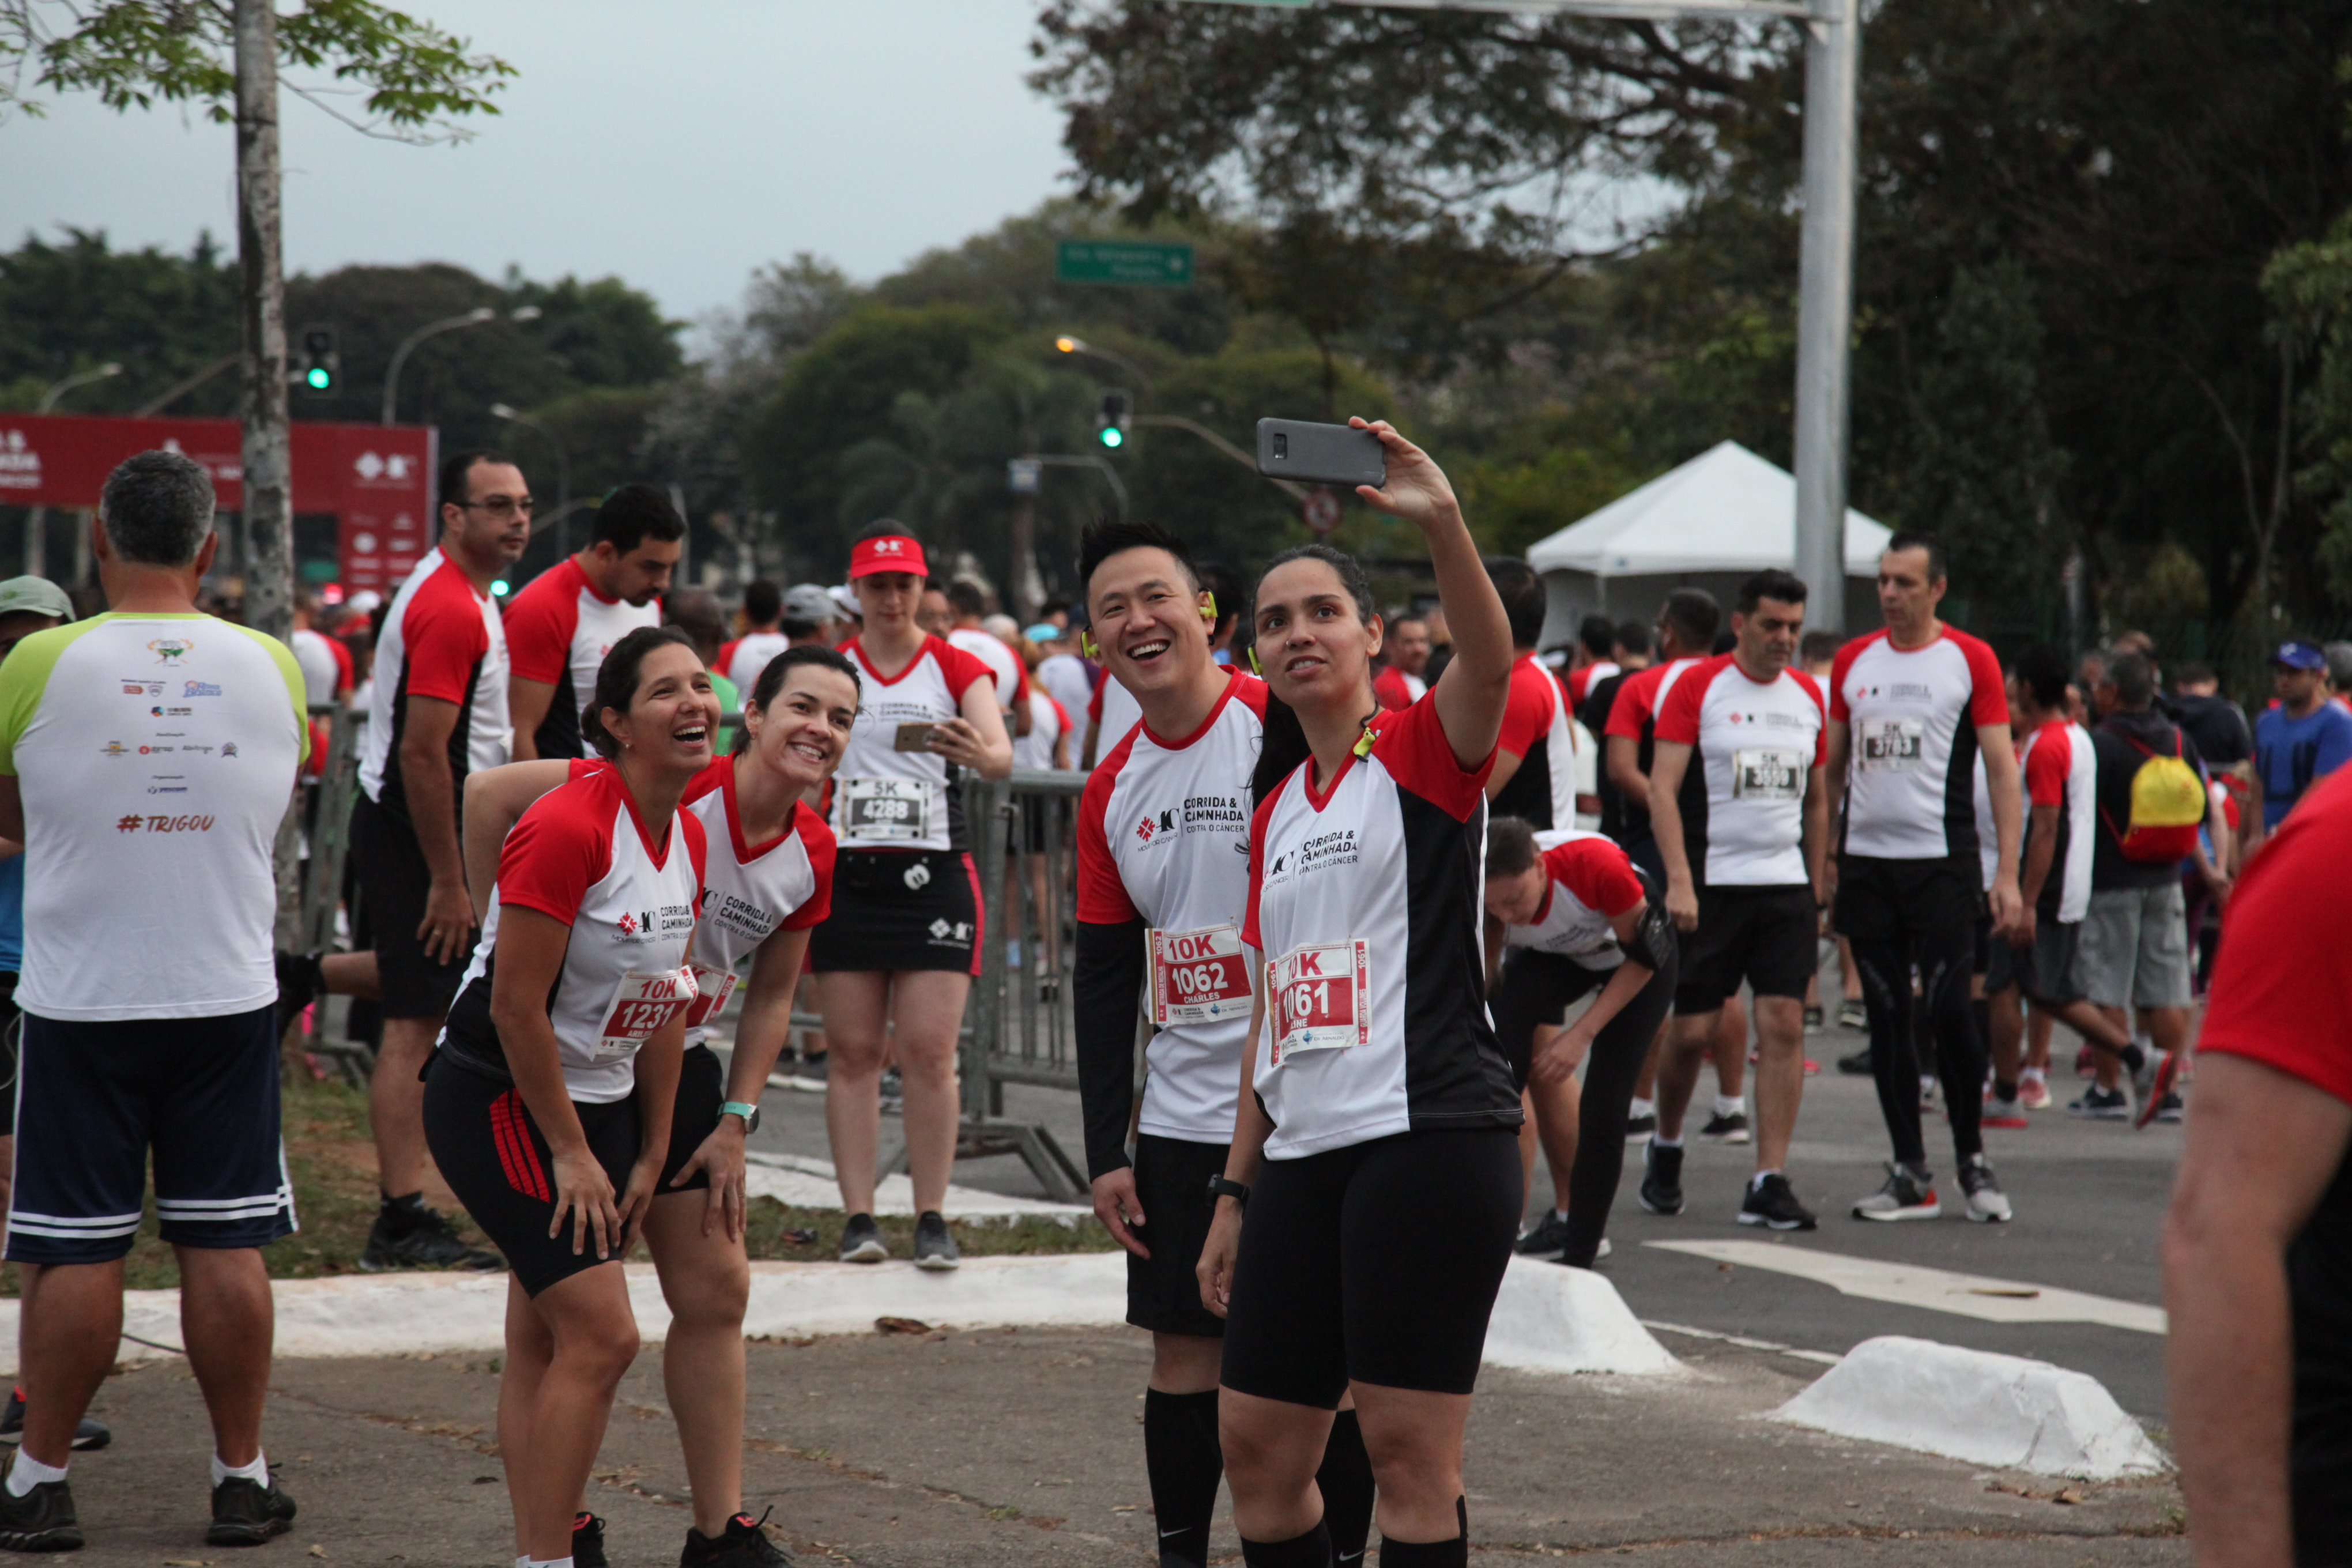bibtag: (1242, 927, 1381, 1081), (1132, 905, 1256, 1025), (604, 961, 695, 1095), (828, 768, 941, 854), (1722, 735, 1806, 822), (1850, 705, 1935, 786)
